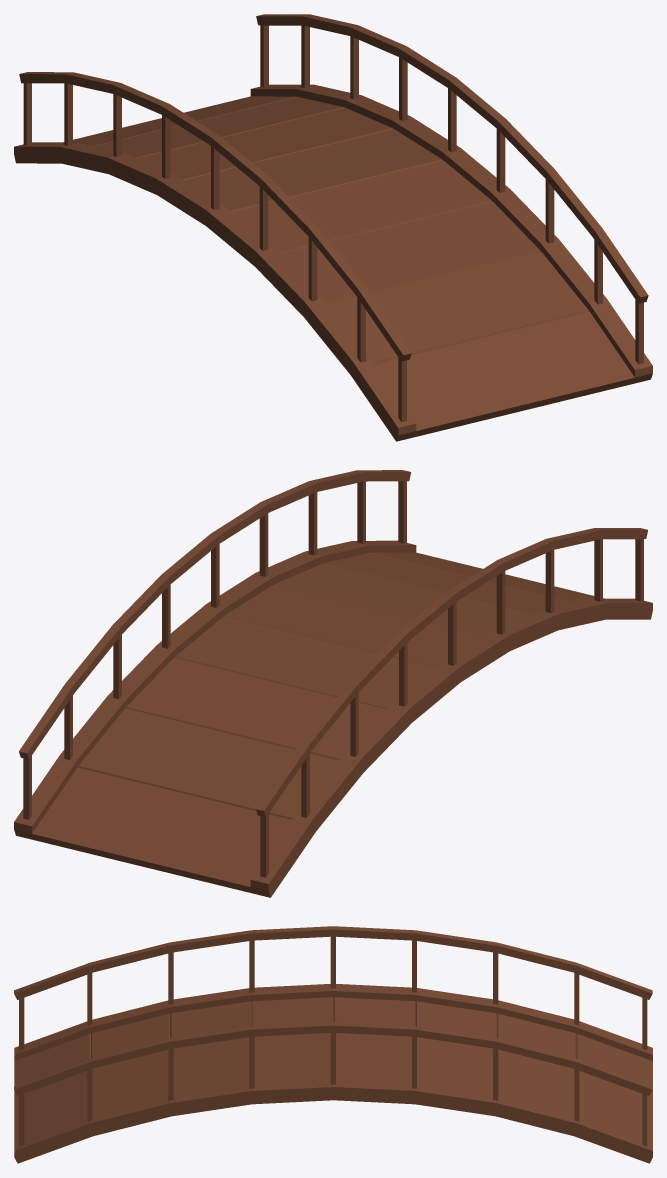
File: PonteArco.fbx
3 views of the same model, one above another, from view 1: azimuth 30°, elevation 25°; view 2: azimuth 150°, elevation 25°; view 3: azimuth 270°, elevation 25° (orthographic). The views are drawn at different scales.
Visible parts, largest first — view 1: Box018, Box019, Box029; view 2: Box018, Box029, Box019, Box022, Box032, Box021, Box031; view 3: Box018, Box019, Box029.
Part boxes in pixels (x1=…): Box018: x1=14, y1=84, x2=652, y2=441; Box019: x1=256, y1=14, x2=648, y2=303; Box029: x1=19, y1=72, x2=411, y2=361; Box018: x1=14, y1=540, x2=652, y2=897; Box029: x1=256, y1=528, x2=647, y2=817; Box019: x1=19, y1=470, x2=411, y2=759; Box022: x1=308, y1=492, x2=317, y2=555; Box032: x1=545, y1=550, x2=554, y2=612; Box021: x1=259, y1=513, x2=268, y2=576; Box031: x1=496, y1=571, x2=505, y2=634; Box018: x1=14, y1=984, x2=652, y2=1163; Box019: x1=14, y1=1022, x2=652, y2=1095; Box029: x1=14, y1=926, x2=652, y2=999.
Size of the model in its own units: 46.58 by 122 by 28.66.
